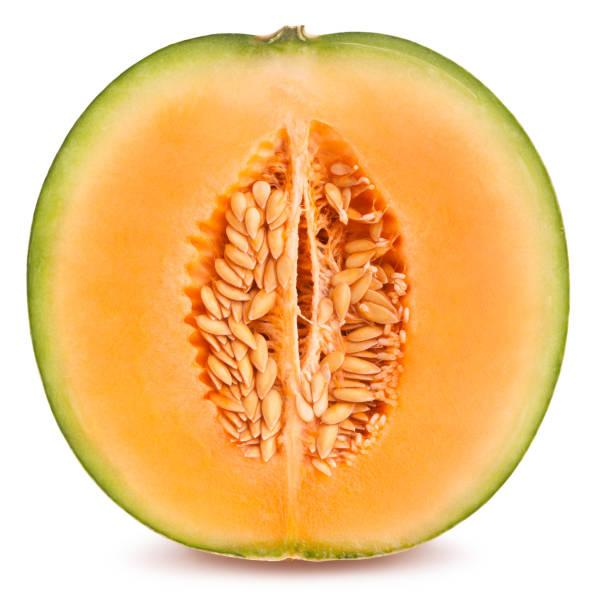Melon Ripe: (27, 33, 568, 560)
